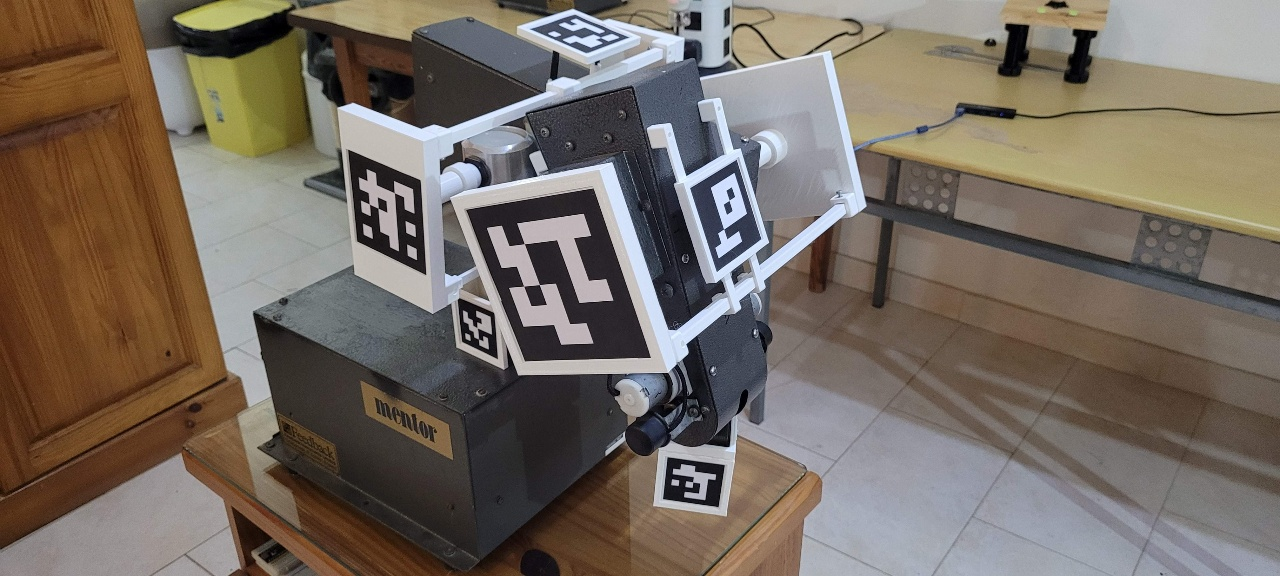Robot: (203, 3, 841, 576)
